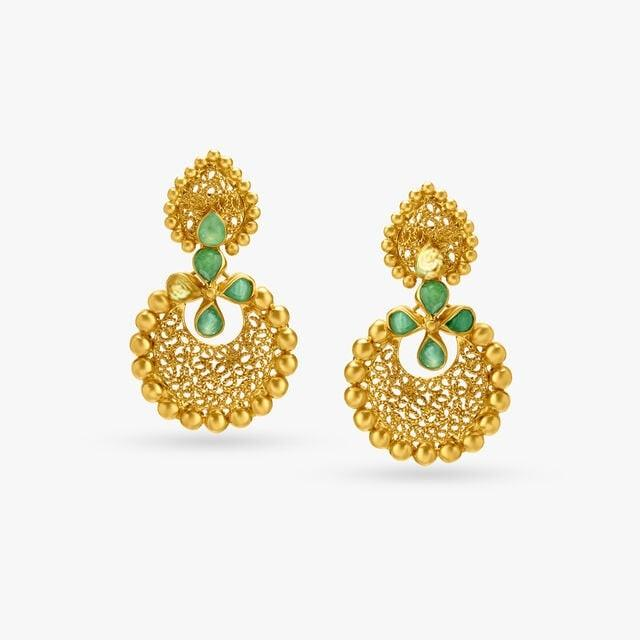missing gem: (417, 242, 444, 279), (168, 275, 200, 302)
